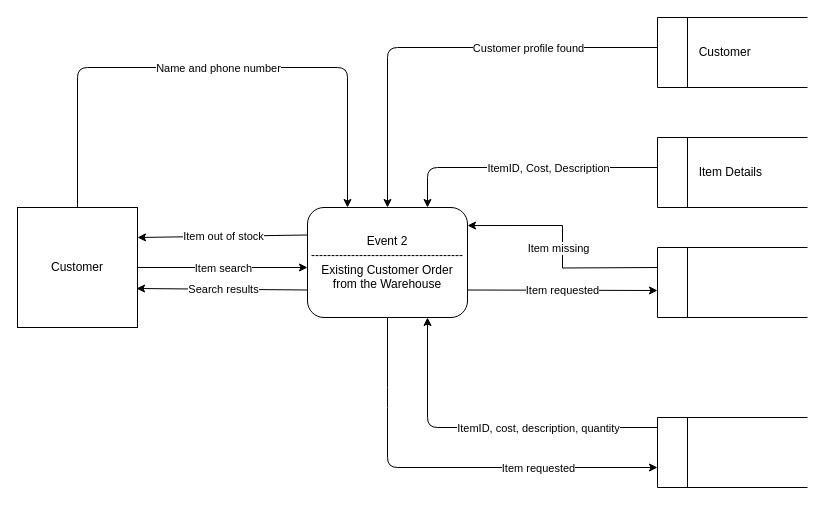
The diagram is 825 pixels wide and 505 high, and some of its shapes have lost their labels. The shapes that lost their labels are listed below. From the top down, each one's centre as x and y in pixels, then its label:
At (x=732, y=282): "Store Inventory Level".
At (x=732, y=452): "Warehouse Inventory Level".
